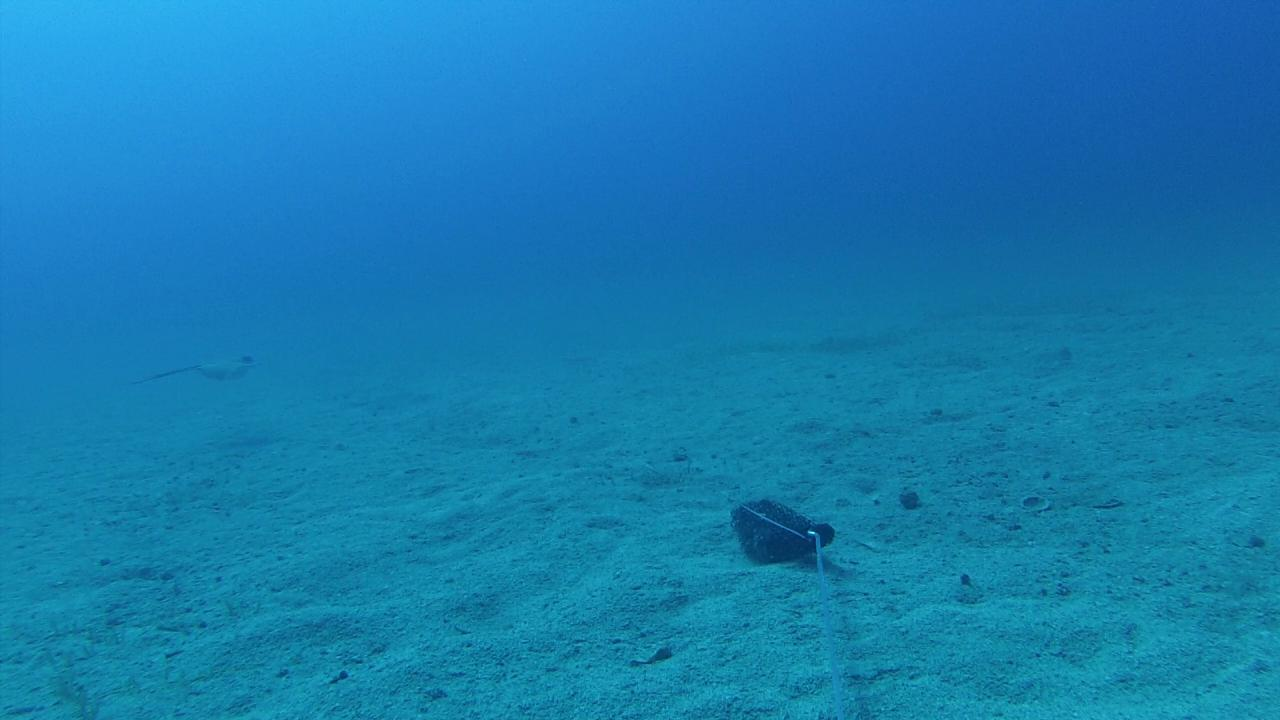dasyatis: (126, 350, 262, 384)
